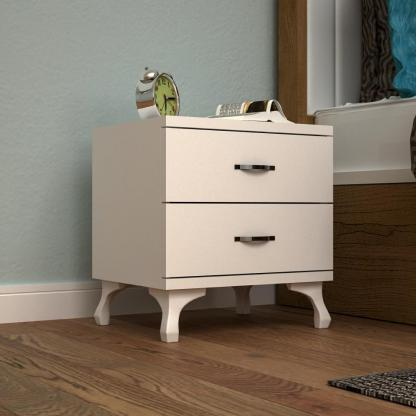Nightstand: (93, 114, 335, 343)
Wooden floor: (0, 308, 416, 416)
